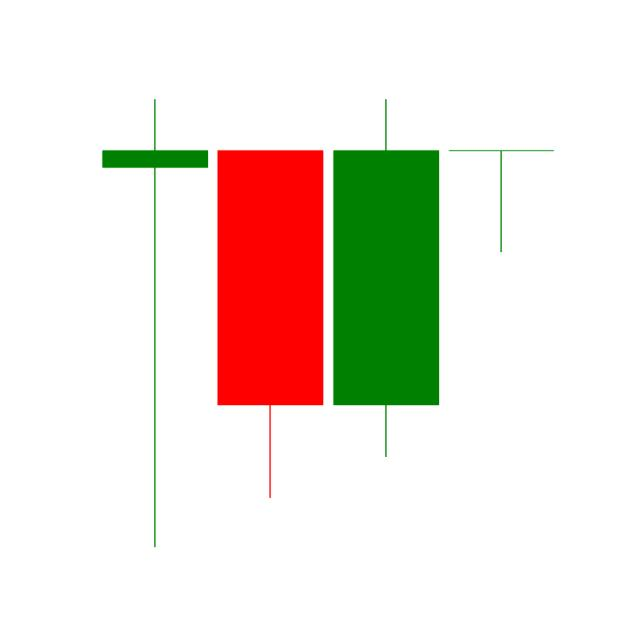Dragonfly Doji: (443, 148, 559, 253)
Long-Legged Doji: (100, 98, 208, 551)
